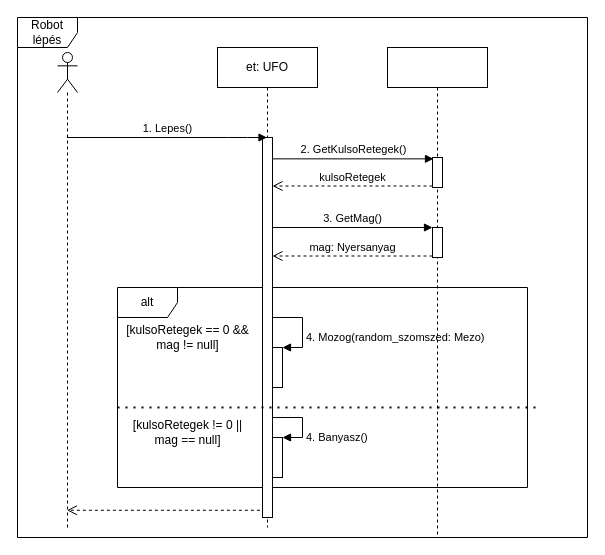
This 605x555 diagram has some shape labels left out. The shapes that lost their labels are listed below. From the top down, each one's box as (x1, y1, x2, y2) in pixels, then its label:
(56, 52, 78, 528): Controller
(386, 46, 488, 538): a : Aszteroida
